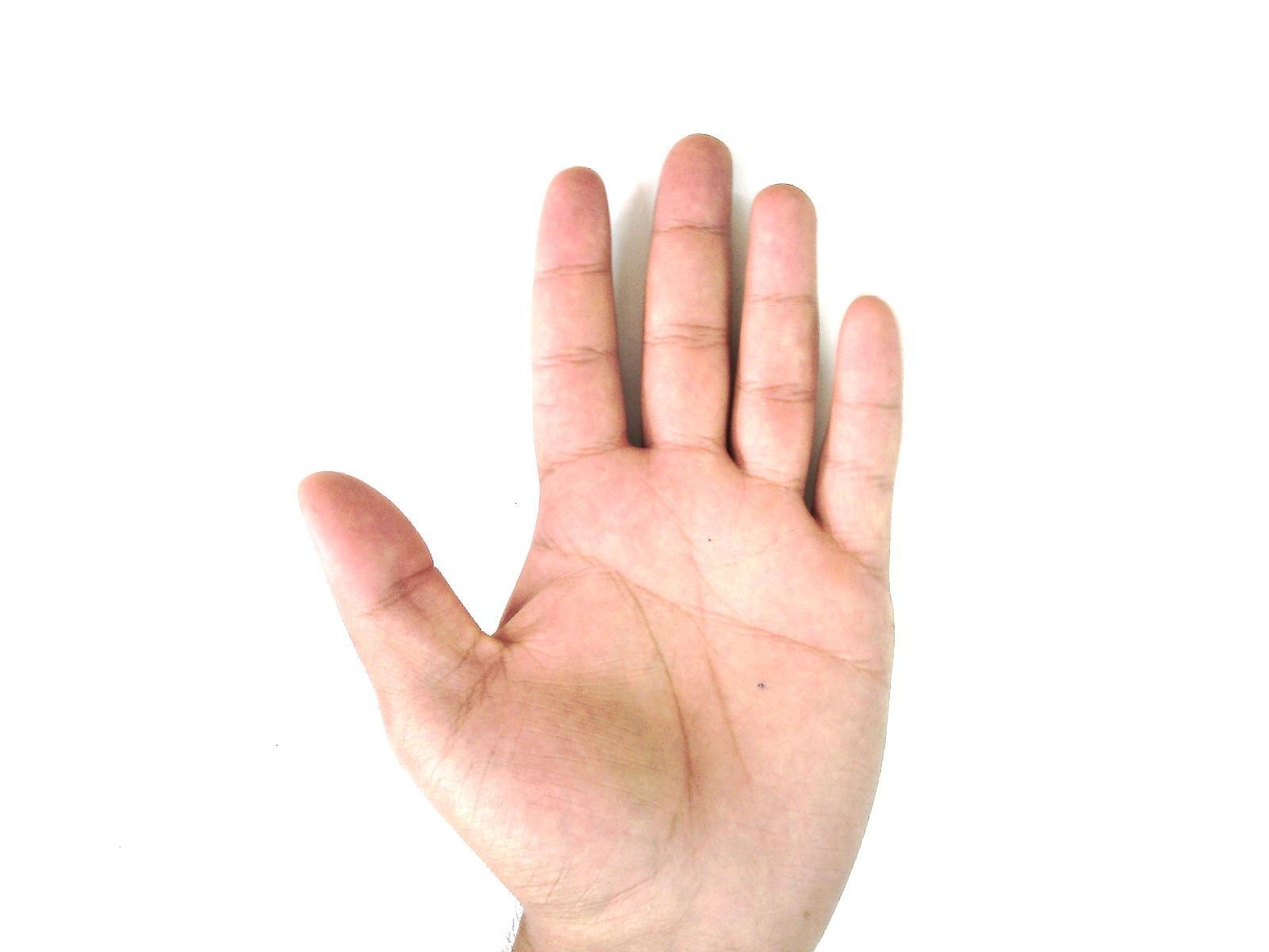open_palm: (296, 132, 908, 951)
